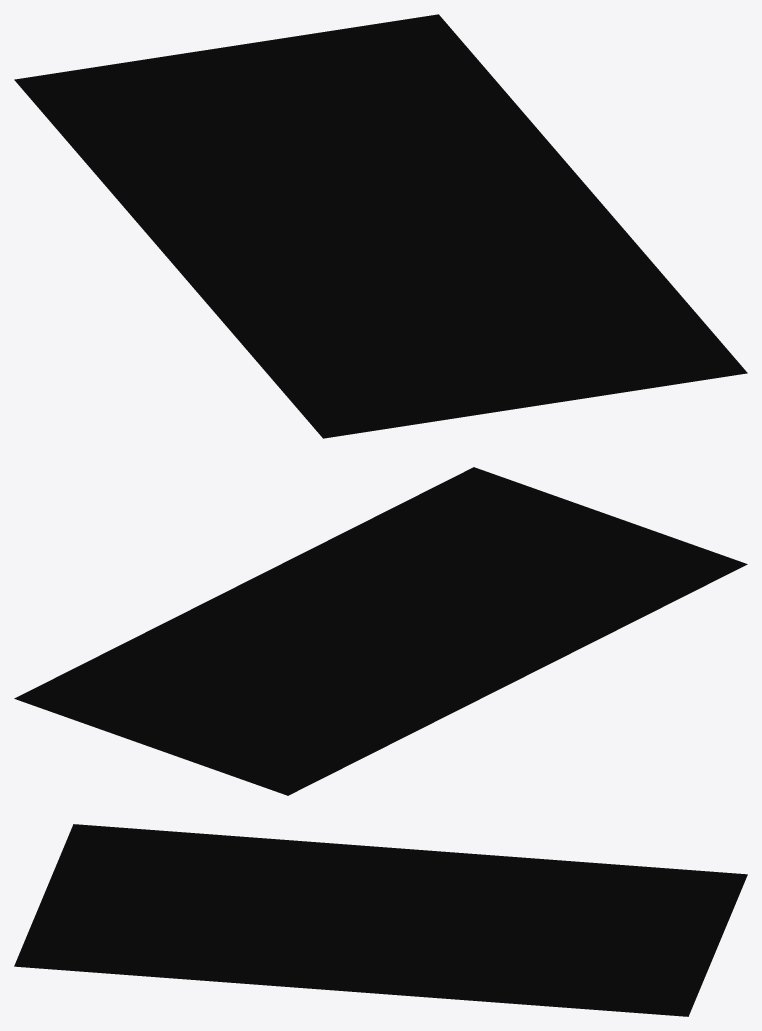
Rendered from checker_bottom.glb.
3 views of the same model, one above another, from view 1: azimuth 30°, elevation 25°; view 2: azimuth 150°, elevation 25°; view 3: azimuth 270°, elevation 25° (orthographic). The views are drawn at different scales.
Parts seen in each view (by area): view 1: checker_bottom; view 2: checker_bottom; view 3: checker_bottom.
Boxes of the visible parts, <box> form: checker_bottom: <box>14,14,747,438</box>; checker_bottom: <box>14,467,747,795</box>; checker_bottom: <box>14,824,747,1016</box>.
Bounding box in the file's own units: 2.24 × 0 × 3.6.
Materials: 1 (1 with a texture image).
